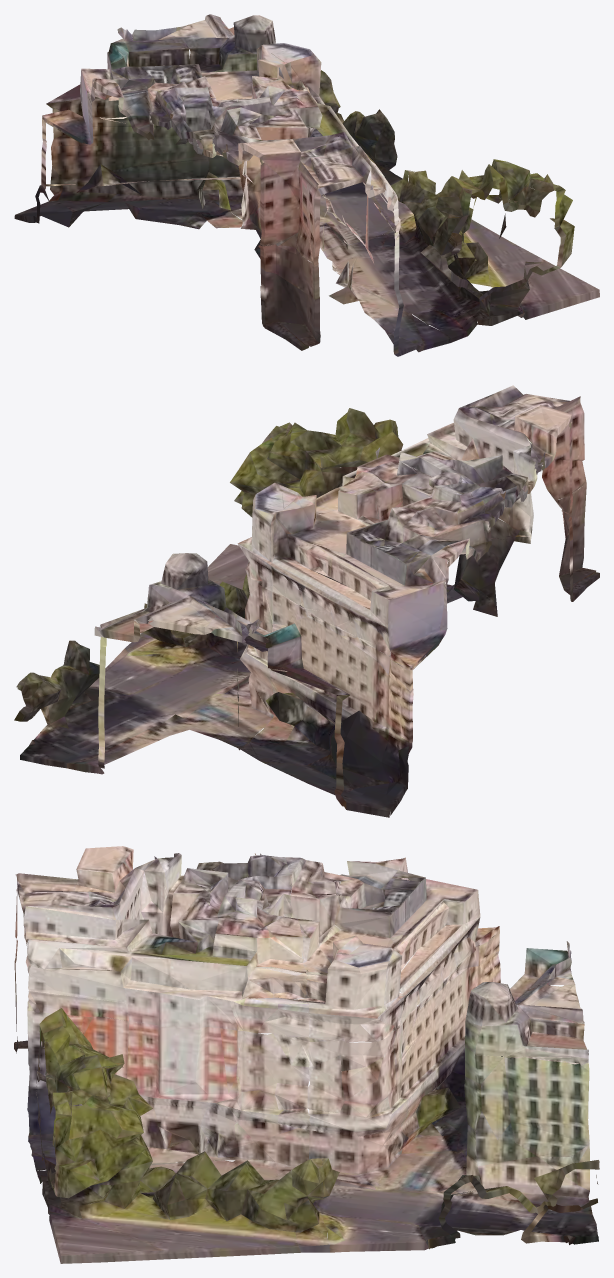
The picture shows the model from 3 angles, top to bottom: view 1: azimuth 30°, elevation 25°; view 2: azimuth 150°, elevation 25°; view 3: azimuth 270°, elevation 25°; orthographic projection. The views are drawn at different scales.
Visible parts, largest first — view 1: Mesh_0; view 2: Mesh_0; view 3: Mesh_0.
Part boxes in pixels (x1,y1,x2,y2): Mesh_0: [14, 14, 599, 356]; Mesh_0: [14, 385, 599, 817]; Mesh_0: [14, 846, 599, 1263].
Bounding box in the file's own units: 66.56 × 38.97 × 82.56.
1 material, 1 textured.
